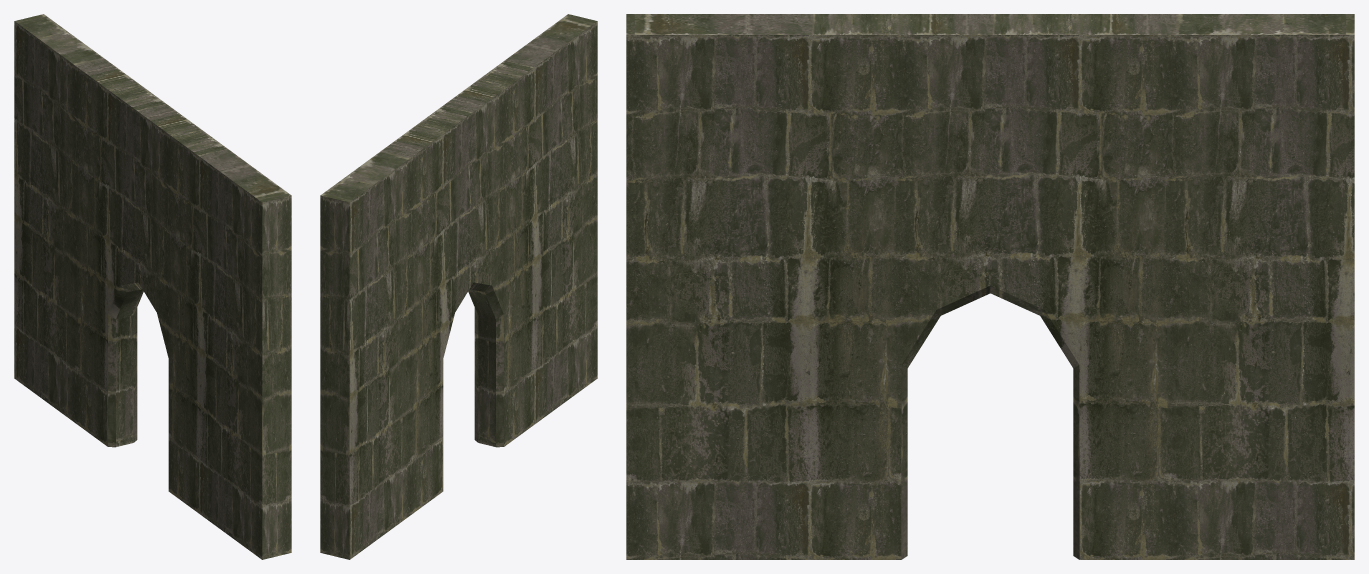
File: Wall_Doorway.fbx
3 renders of one model, left to right at view 1: azimuth 30°, elevation 25°; view 2: azimuth 150°, elevation 25°; view 3: azimuth 270°, elevation 25°, orthographic. The views are drawn at different scales.
Visible parts, largest first — view 1: Doorway; view 2: Doorway; view 3: Doorway.
Part boxes in pixels (x1,y1,x2,y2): Doorway: [14, 14, 291, 559]; Doorway: [320, 14, 597, 559]; Doorway: [626, 14, 1354, 559].
Size of the model in its own units: 51 by 595 by 748.
